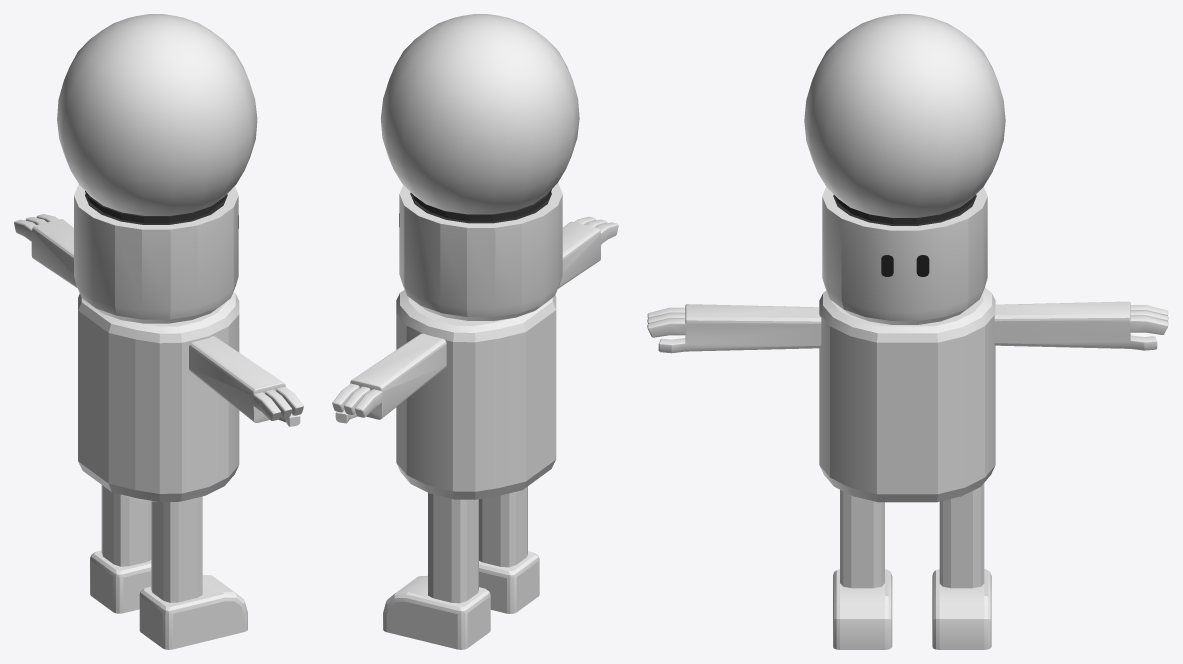
The model's file is character v04.fbx.
The picture shows the model from 3 angles, left to right: view 1: azimuth 30°, elevation 25°; view 2: azimuth 150°, elevation 25°; view 3: azimuth 270°, elevation 25°; orthographic projection.
Parts seen in each view (by area): view 1: glass, body, head, leg r, leg l, hand r, hand l, lamp; view 2: glass, body, head, leg l, leg r, hand l, hand r, lamp; view 3: glass, body, head, leg l, leg r, hand r, hand l, lamp.
Part boxes in pixels (x1=…): glass: x1=57, y1=14, x2=257, y2=215; body: x1=78, y1=292, x2=239, y2=501; head: x1=74, y1=184, x2=238, y2=323; leg r: x1=139, y1=496, x2=247, y2=649; leg l: x1=90, y1=485, x2=151, y2=613; hand r: x1=189, y1=336, x2=303, y2=426; hand l: x1=14, y1=214, x2=77, y2=287; lamp: x1=85, y1=191, x2=227, y2=224; glass: x1=380, y1=14, x2=579, y2=214; body: x1=396, y1=290, x2=556, y2=499; head: x1=399, y1=183, x2=562, y2=320; leg l: x1=383, y1=493, x2=490, y2=649; leg r: x1=479, y1=486, x2=539, y2=613; hand l: x1=332, y1=333, x2=446, y2=423; hand r: x1=558, y1=216, x2=618, y2=288; lamp: x1=410, y1=189, x2=551, y2=223; glass: x1=804, y1=14, x2=1005, y2=217; body: x1=819, y1=287, x2=995, y2=502; head: x1=822, y1=187, x2=987, y2=324; leg l: x1=932, y1=483, x2=991, y2=649; leg r: x1=833, y1=490, x2=892, y2=649; hand r: x1=647, y1=304, x2=821, y2=353; hand l: x1=994, y1=301, x2=1168, y2=350; lamp: x1=833, y1=195, x2=976, y2=225.
Bounding box in the file's own units: 178 × 592 × 467.
